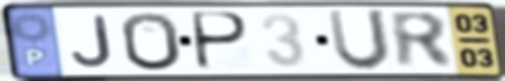3: (259, 11, 309, 70)
J: (69, 14, 116, 69)
O: (118, 11, 185, 73)
P: (192, 10, 253, 73)
R: (385, 10, 458, 71)
U: (324, 7, 393, 74)
